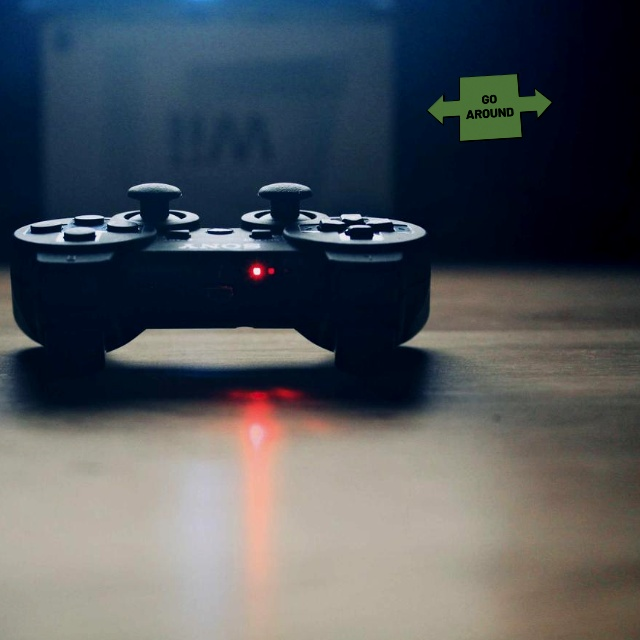GO_AROUND: (426, 73, 553, 142)
